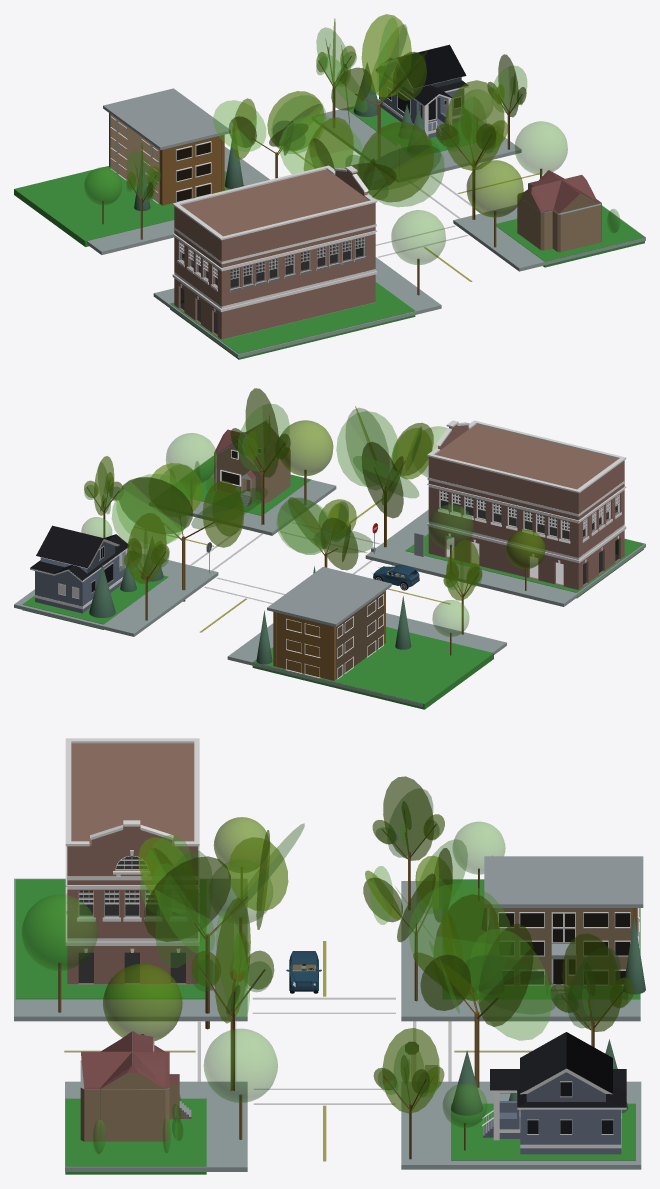
The picture shows the model from 3 angles, top to bottom: view 1: azimuth 30°, elevation 25°; view 2: azimuth 150°, elevation 25°; view 3: azimuth 270°, elevation 25°; orthographic projection. The views are drawn at different scales.
Visible parts, largest first — view 1: pasted__pCube42Shape, pCubeShape172, pasted__pCubeShape33, pasted__pCubeShape5, pCube64Shape, pCubeShape205, pCubeShape75, pCylinderShape103, pCylinderShape93, pCubeShape173, pasted__pCubeShape2, pasted__pCubeShape28 (+43 smaller); view 2: pasted__pCube42Shape, pCubeShape172, pasted__pCubeShape33, pasted__pCubeShape5, pasted__pCubeShape28, pCubeShape205, pasted__pCubeShape2, pCubeShape173, pCube64Shape, pasted__pCubeShape27, pCylinderShape58, pCylinderShape104 (+49 smaller); view 3: pasted__pCube42Shape, pCube64Shape, pCubeShape75, pasted__pCubeShape28, pCubeShape205, pasted__pCubeShape27, pasted__pCubeShape2, pCubeShape74, pCubeShape187, pasted__pCubeShape29, pCylinderShape103, pCube239Shape (+51 smaller).
Part boxes in pixels (left/top/right/bottom): pasted__pCube42Shape: left=174, top=169, right=375, bottom=267; pCubeShape172: left=14, top=166, right=244, bottom=246; pasted__pCubeShape33: left=174, top=234, right=375, bottom=306; pasted__pCubeShape5: left=174, top=274, right=375, bottom=339; pCube64Shape: left=517, top=170, right=601, bottom=252; pCubeShape205: left=103, top=88, right=230, bottom=150; pCubeShape75: left=170, top=282, right=415, bottom=359; pCylinderShape103: left=360, top=122, right=433, bottom=202; pCylinderShape93: left=444, top=80, right=504, bottom=170; pCubeShape173: left=109, top=113, right=224, bottom=205; pasted__pCubeShape2: left=319, top=100, right=521, bottom=175; pasted__pCubeShape28: left=153, top=246, right=441, bottom=358; pasted__pCube42Shape: left=428, top=424, right=624, bottom=520; pCubeShape172: left=252, top=627, right=493, bottom=709; pasted__pCubeShape33: left=428, top=487, right=624, bottom=557; pasted__pCubeShape5: left=428, top=527, right=624, bottom=589; pasted__pCubeShape28: left=365, top=496, right=645, bottom=606; pCubeShape205: left=267, top=567, right=391, bottom=626; pasted__pCubeShape2: left=14, top=551, right=218, bottom=636; pCubeShape173: left=273, top=591, right=385, bottom=680; pCube64Shape: left=214, top=422, right=290, bottom=503; pasted__pCubeShape27: left=227, top=613, right=506, bottom=707; pCylinderShape58: left=119, top=477, right=192, bottom=533; pCylinderShape104: left=336, top=411, right=398, bottom=486; pasted__pCube42Shape: left=67, top=743, right=198, bottom=884; pCube64Shape: left=80, top=1031, right=169, bottom=1141; pCubeShape75: left=15, top=879, right=206, bottom=999; pasted__pCubeShape28: left=14, top=878, right=247, bottom=1021; pCubeShape205: left=484, top=856, right=643, bottom=907; pasted__pCubeShape27: left=401, top=881, right=640, bottom=1021; pasted__pCubeShape2: left=401, top=1081, right=641, bottom=1169; pCubeShape74: left=65, top=1098, right=206, bottom=1174; pCubeShape187: left=496, top=908, right=632, bottom=984; pasted__pCubeShape29: left=65, top=1081, right=247, bottom=1171; pCylinderShape103: left=144, top=856, right=230, bottom=941; pCube239Shape: left=499, top=1093, right=621, bottom=1154.
Size of what is drawn, in the model's own units: 13.37 by 4.52 by 12.34.
Materials: 31 (3 with a texture image).
